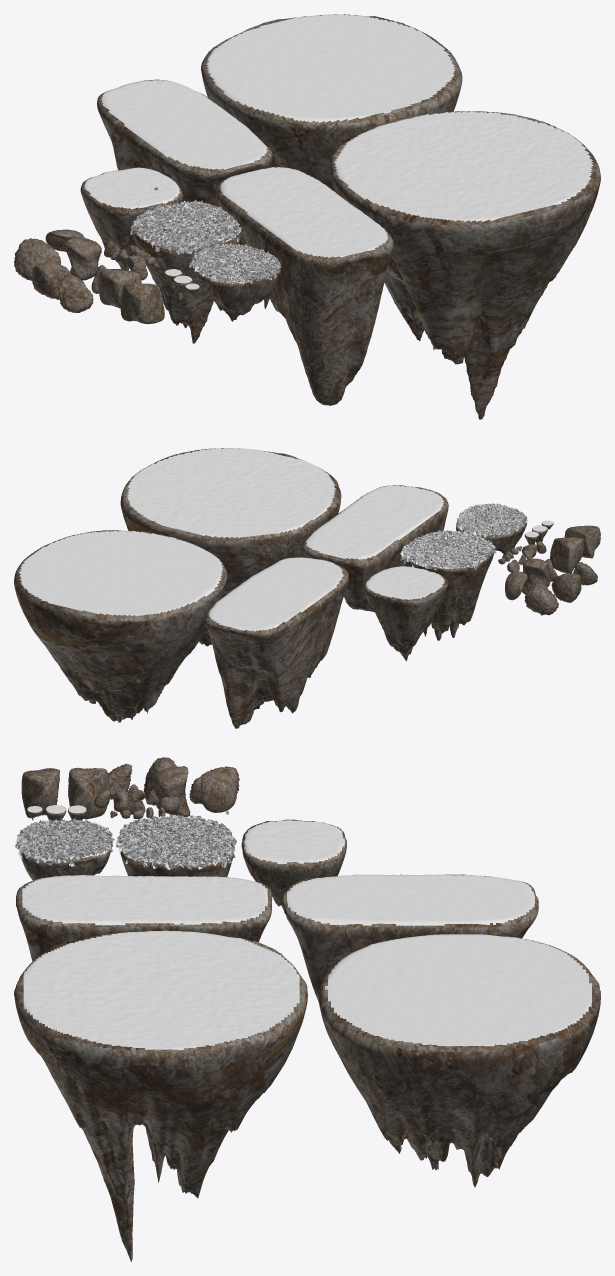
The model's file is Islands.fbx.
3 views of the same model, one above another, from view 1: azimuth 30°, elevation 25°; view 2: azimuth 150°, elevation 25°; view 3: azimuth 270°, elevation 25° (orthographic). The views are drawn at different scales.
Parts seen in each view (by area): view 1: Landscape.011, Landscape.010, Landscape.007, Landscape.006, Landscape, Landscape.004, Landscape.005, rock.011, rock.012, rock.029, rock.014, rock.025 (+1 smaller); view 2: Landscape.010, Landscape.011, Landscape.006, Landscape.007, Landscape, Landscape.004, rock.014, rock.029, rock.026, rock.011, rock.012, Landscape.005 (+2 smaller); view 3: Landscape.011, Landscape.010, Landscape.006, Landscape.007, Landscape, rock.014, Landscape.005, Landscape.004, rock.011, rock.010, rock.012.
Part boxes in pixels (x1,y1,x2,y2): Landscape.011: (330, 111, 600, 419); Landscape.010: (201, 14, 462, 191); Landscape.007: (216, 166, 393, 405); Landscape.006: (97, 79, 272, 207); Landscape: (80, 167, 182, 270); Landscape.004: (132, 213, 240, 343); Landscape.005: (190, 260, 280, 321); rock.011: (120, 283, 164, 324); rock.012: (65, 237, 101, 280); rock.029: (14, 238, 61, 280); rock.014: (98, 268, 141, 308); rock.025: (58, 274, 93, 312); Landscape.010: (14, 530, 227, 722); Landscape.011: (120, 448, 341, 646); Landscape.006: (204, 557, 348, 728); Landscape.007: (302, 485, 448, 612); Landscape: (363, 566, 448, 661); Landscape.004: (402, 549, 494, 640); rock.014: (550, 537, 583, 573); rock.029: (524, 583, 558, 615); rock.026: (551, 573, 581, 602); rock.011: (564, 525, 600, 558); rock.012: (521, 558, 550, 594); Landscape.005: (456, 520, 527, 555); Landscape.011: (14, 930, 307, 1261); Landscape.010: (318, 934, 600, 1187); Landscape.006: (282, 874, 538, 1002); Landscape.007: (16, 875, 272, 961); Landscape: (241, 819, 346, 919); rock.014: (68, 767, 110, 819); Landscape.005: (18, 843, 111, 880); Landscape.004: (120, 818, 233, 877); rock.011: (21, 768, 59, 818); rock.010: (200, 771, 236, 812); rock.012: (154, 766, 190, 816).
Size of the model in its own units: 45688 by 21672 by 38694.
